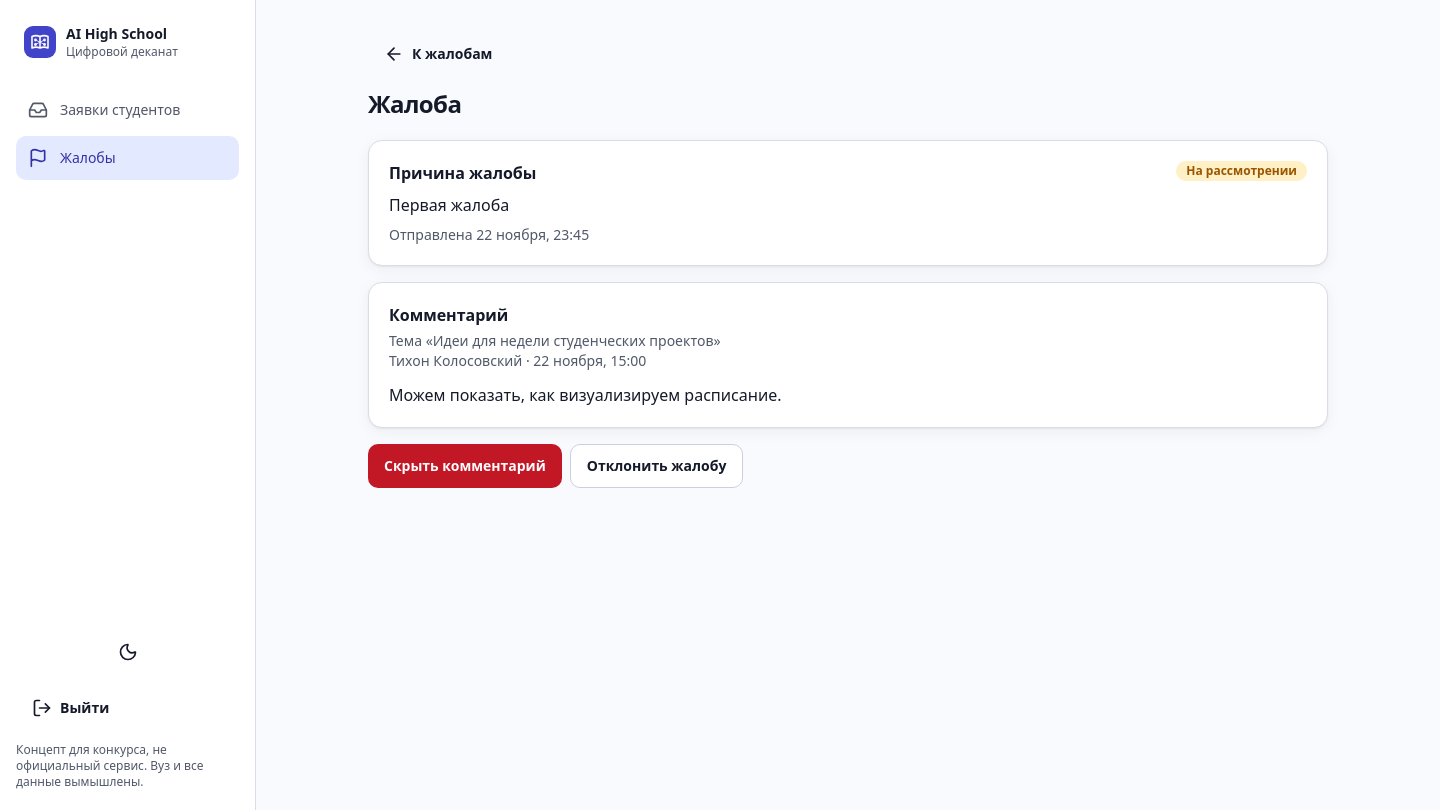
Scenario: повторно открывает связанную жалобу с актуальным статусом после скрытия
Expected: the button "Скрыть комментарий" is shown, left=368, top=444, right=562, bottom=488
Click the link "К жалобам".
click(438, 54)  # box left=384, top=44, right=492, bottom=64
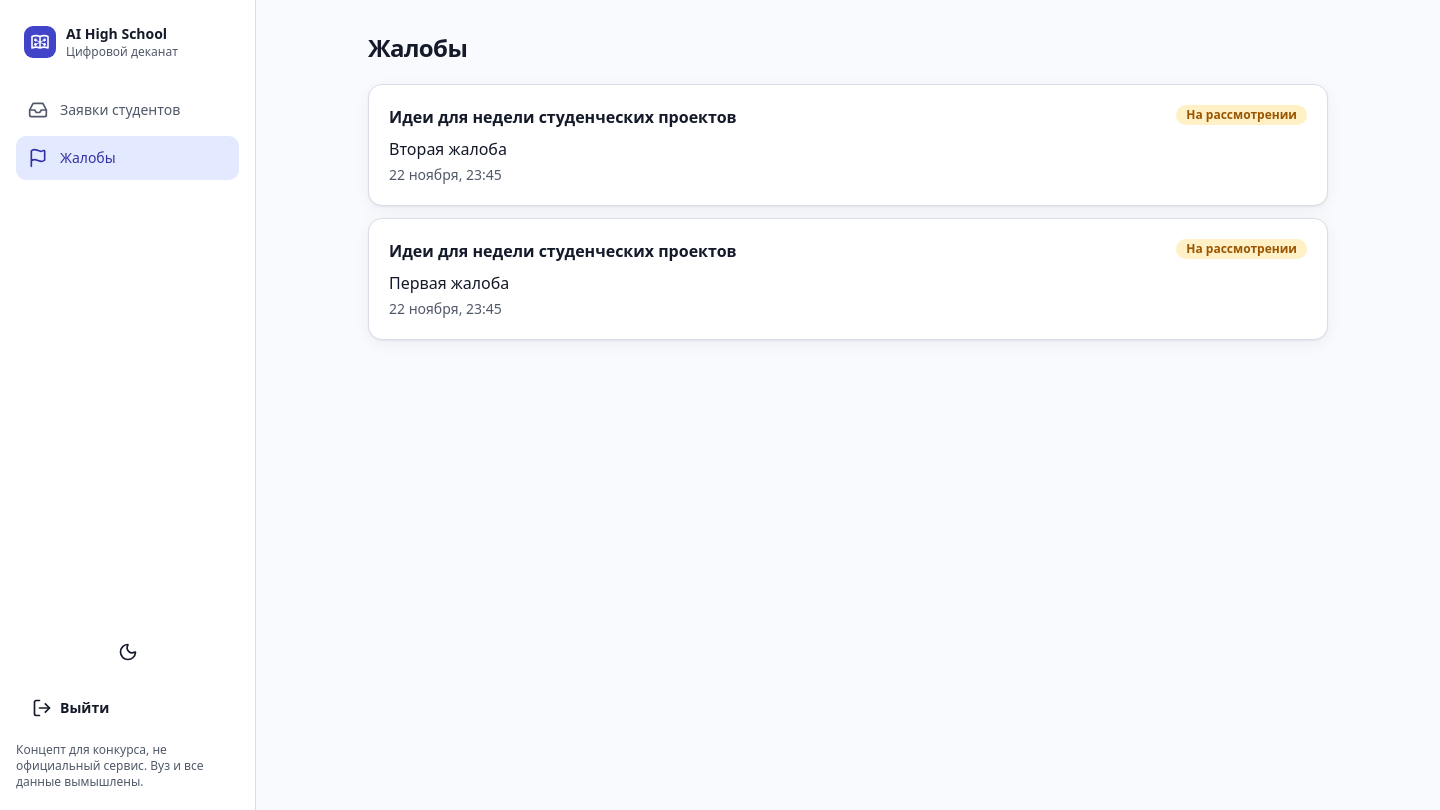
Click the link "Вторая жалоба".
click(563, 117)  # box left=369, top=85, right=1327, bottom=205
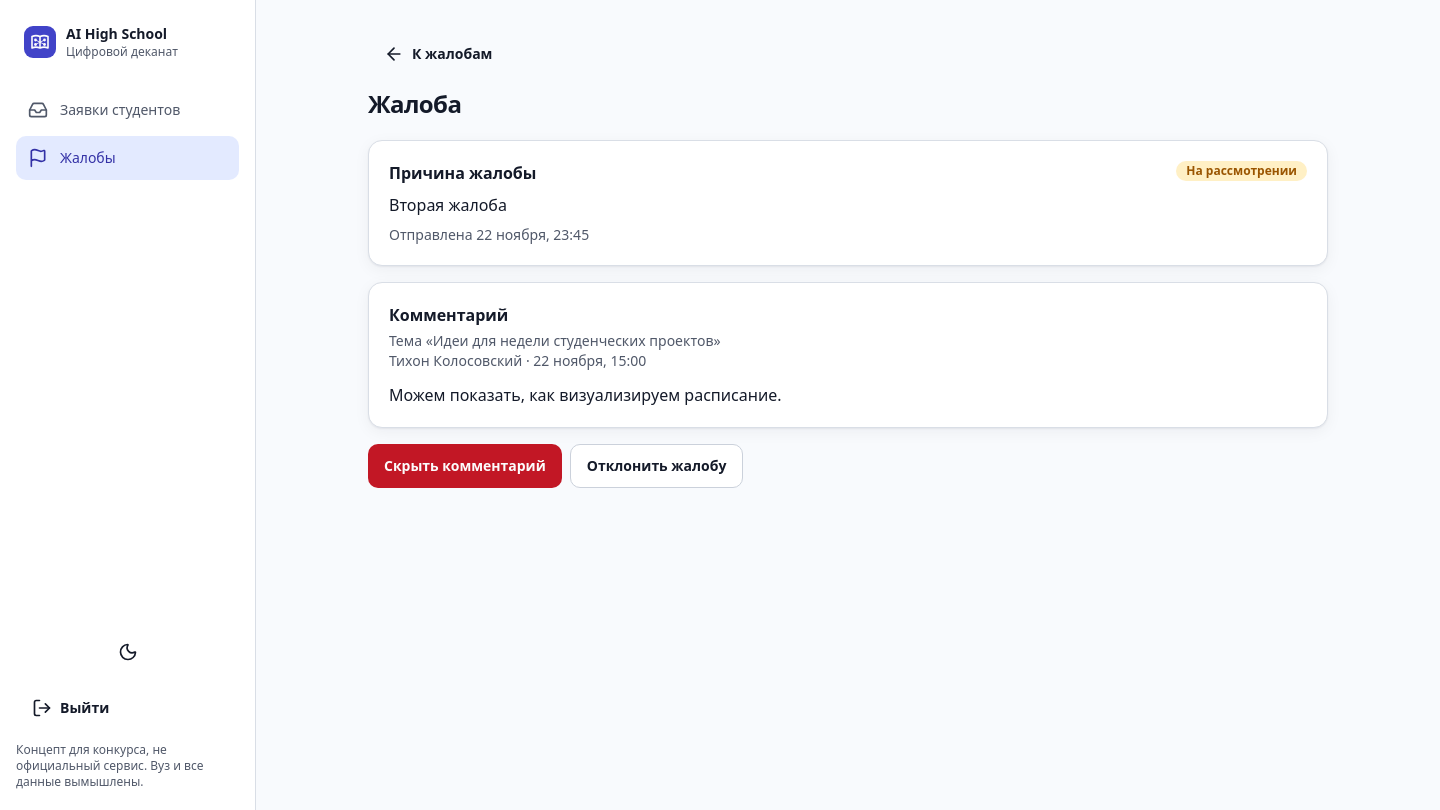
Click the button "Скрыть комментарий".
click(465, 466)  # box left=368, top=444, right=562, bottom=488
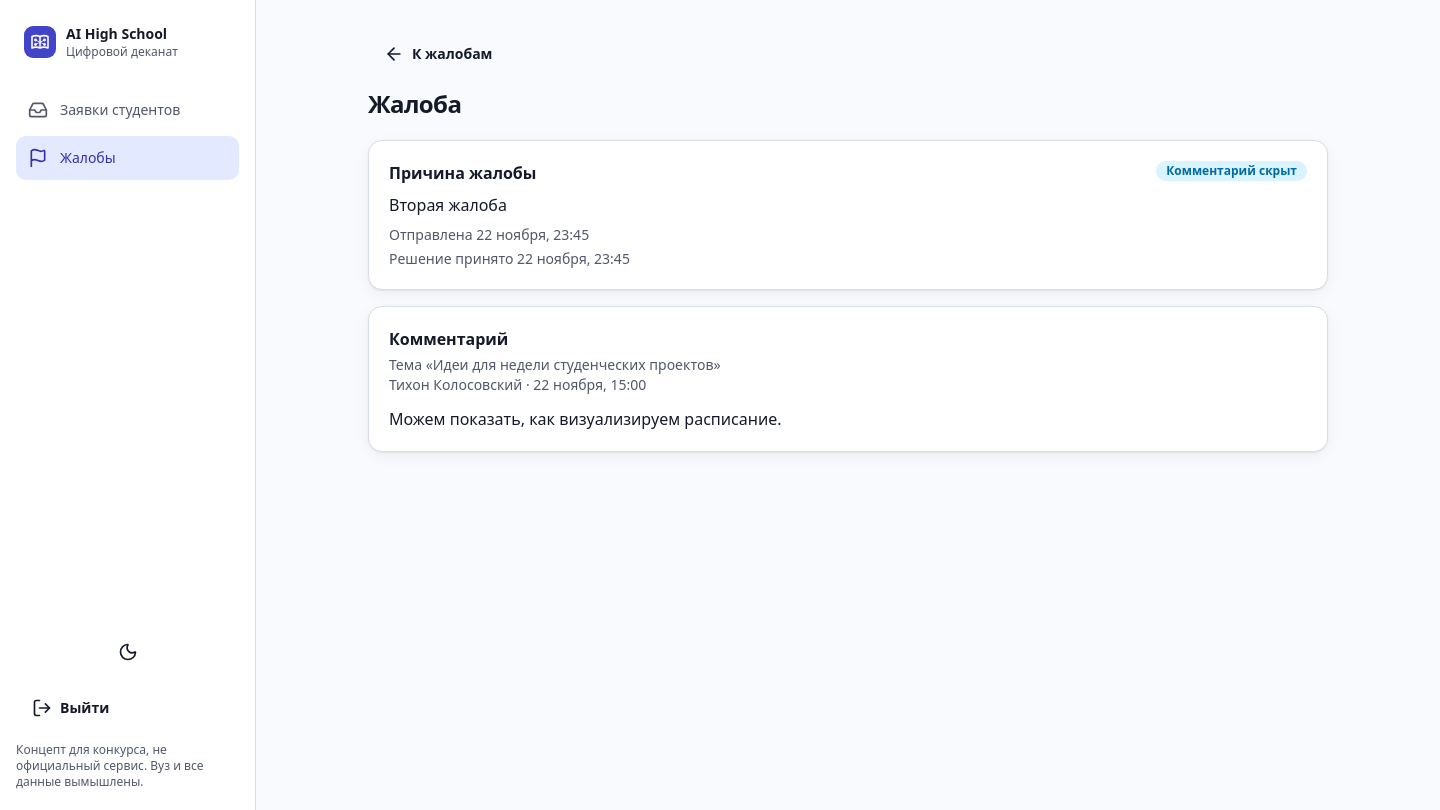
Result: the text "Комментарий скрыт" is shown at left=1156, top=161, right=1307, bottom=181
Click the link "К жалобам".
click(438, 54)  # box left=384, top=44, right=492, bottom=64
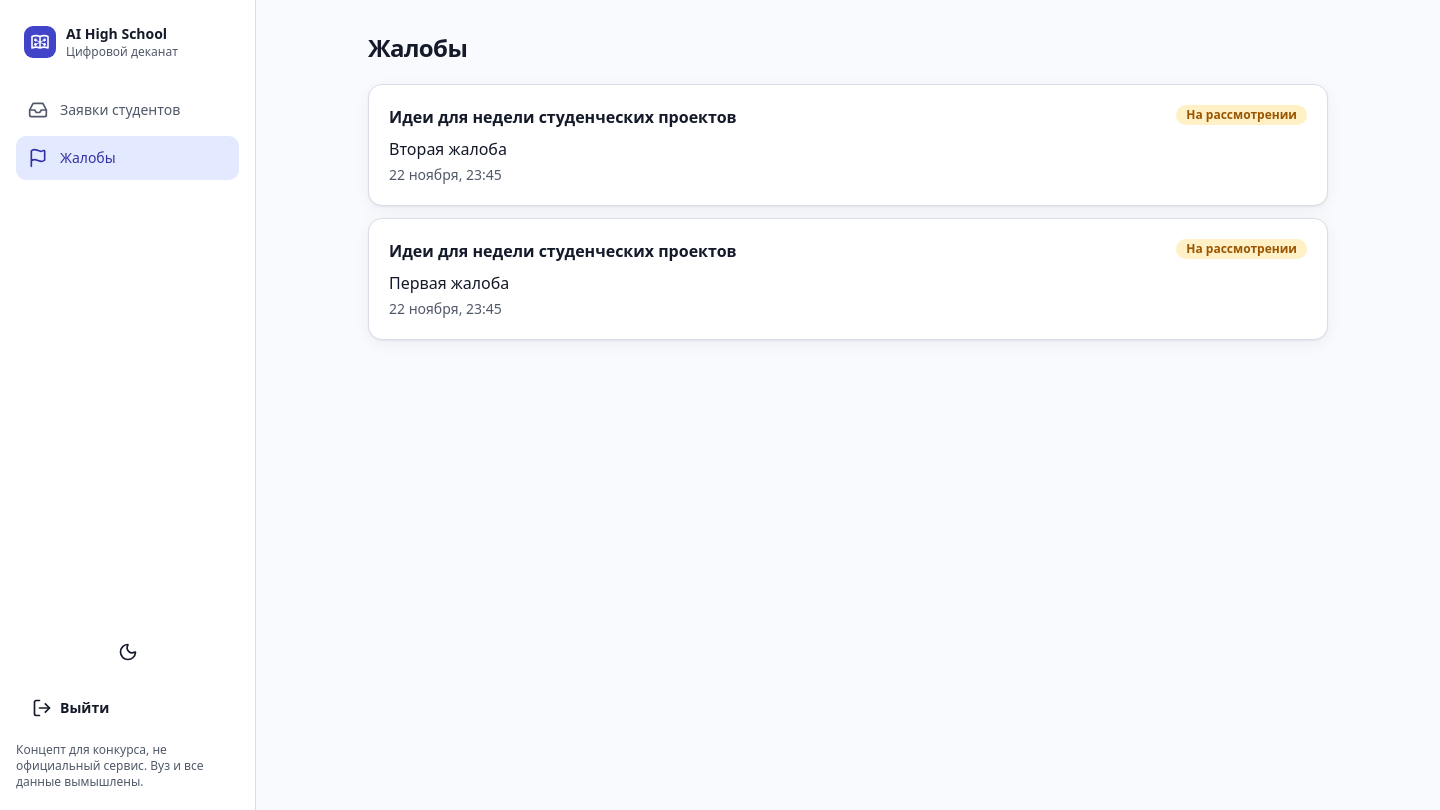
Click the link "Первая жалоба".
click(563, 251)  # box left=369, top=219, right=1327, bottom=339
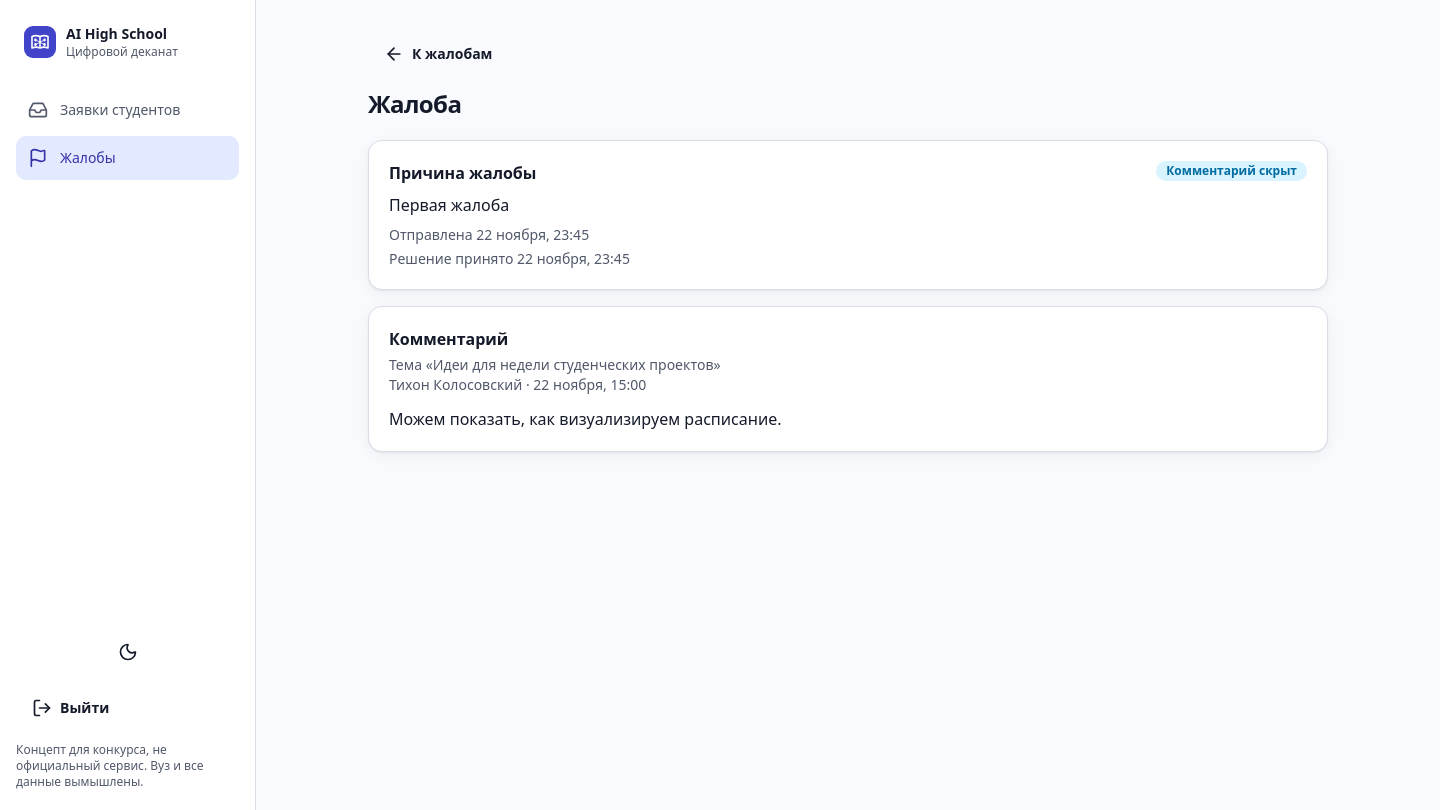
Result: the heading "Жалоба" is shown at left=368, top=88, right=461, bottom=120
Result: the text "Первая жалоба" is shown at left=389, top=194, right=509, bottom=216
Result: the text "Комментарий скрыт" is shown at left=1156, top=161, right=1307, bottom=181
